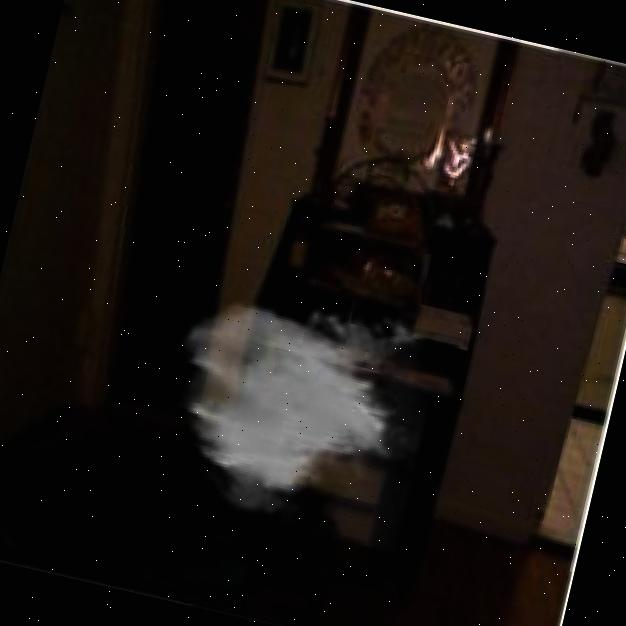smoke: (142, 264, 448, 554)
